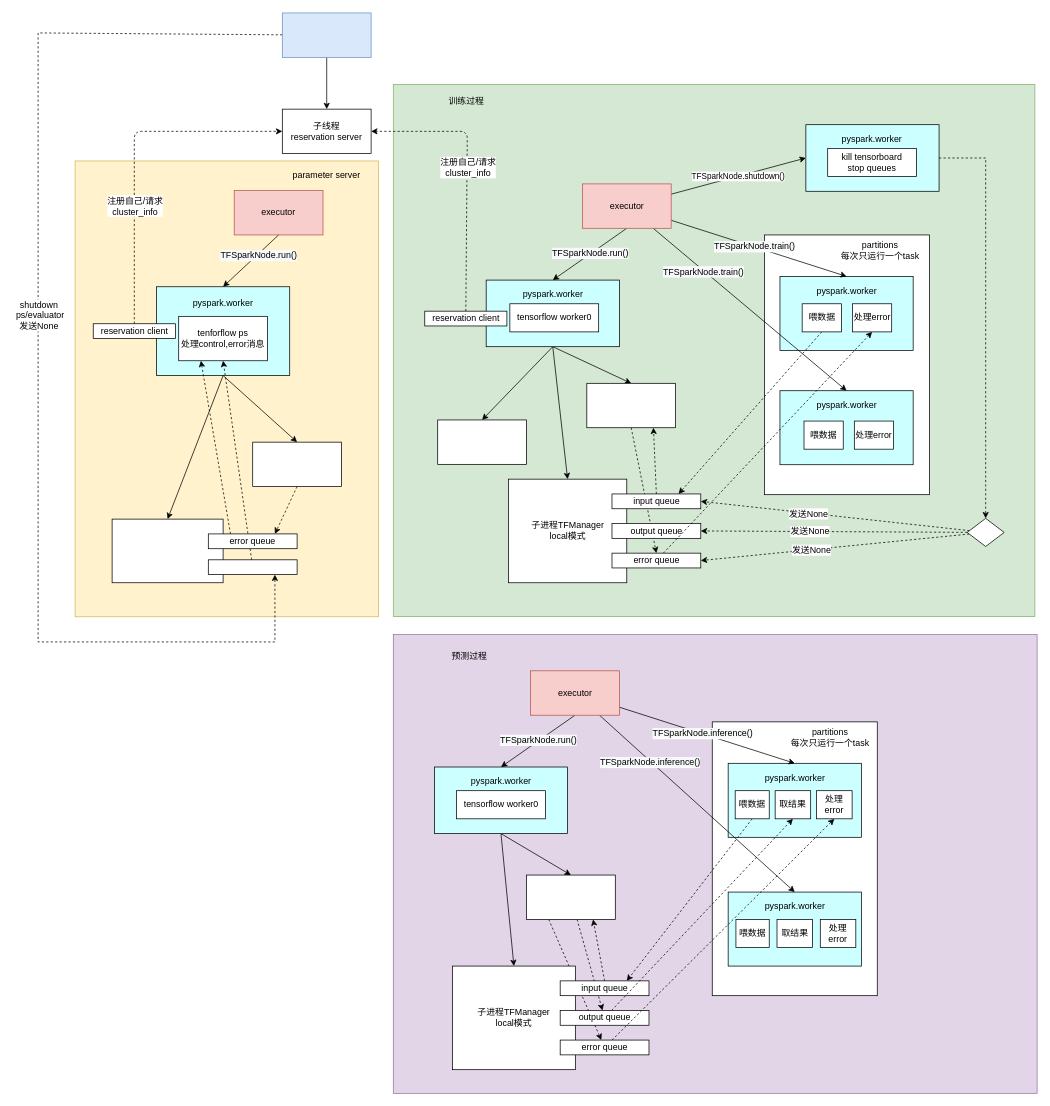
The diagram is 1050 pixels wide and 1106 high, and some of its shapes have lost their labels. The shapes that lost their labels are listed below. From the top down, each one's centre as x and y in pixels, then its label:
At (x=326, y=34): "driver".
At (x=631, y=405): "Background子进程 执行用户函数作训练 捕捉error".
At (x=482, y=441): "子进程tensorboard 只运行在worker:0上".
At (x=297, y=464): "Background子进程 执行用户函数(tf.train.Server.join) 捕捉error".
At (x=167, y=550): "子进程TFManager remote模式".
At (x=252, y=567): "control queue".
At (x=570, y=896): "Background子进程 执行用户函数作预测 捕捉error".
